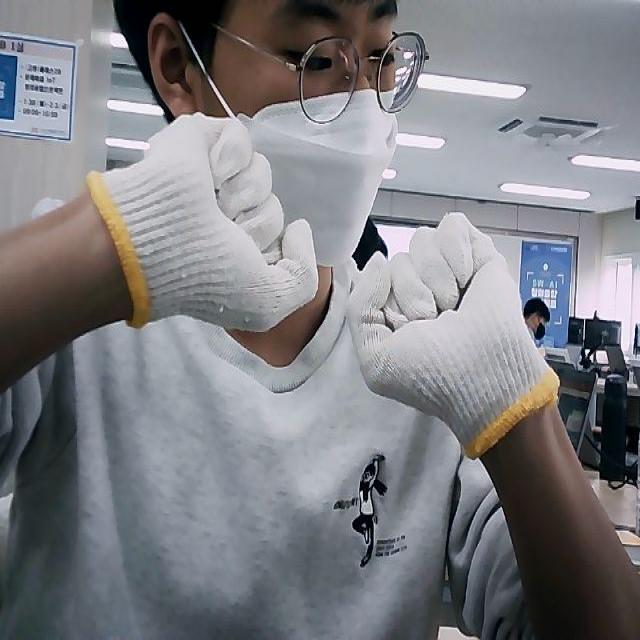gloves: (349, 211, 558, 457), (88, 112, 320, 330)
